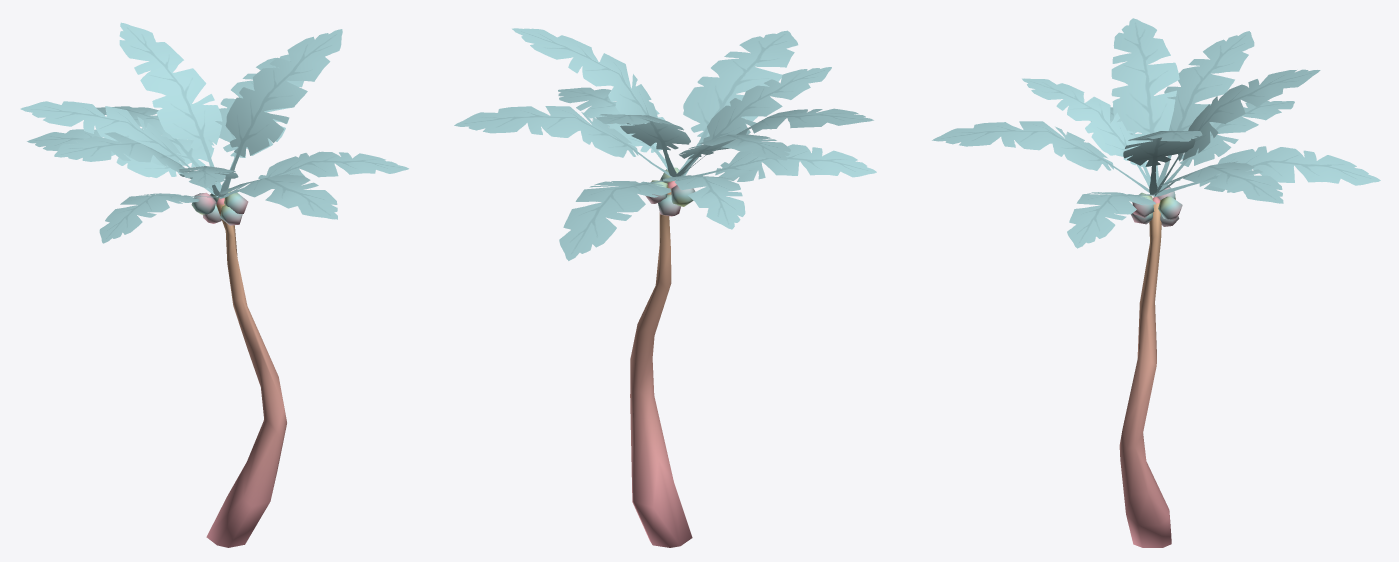
Rendered from lod1coconutV1.2.fbx.
The picture shows the model from 3 angles, left to right: view 1: azimuth 30°, elevation 25°; view 2: azimuth 150°, elevation 25°; view 3: azimuth 270°, elevation 25°; orthographic projection. The views are drawn at different scales.
Parts seen in each view (by area): view 1: palmtree_04.010; view 2: palmtree_04.010; view 3: palmtree_04.010.
Part boxes in pixels (left/top/right/bottom): palmtree_04.010: left=20, top=22, right=408, bottom=547; palmtree_04.010: left=454, top=28, right=876, bottom=547; palmtree_04.010: left=932, top=18, right=1380, bottom=547.
Bounding box in the file's own units: 819 × 1042 × 936.
